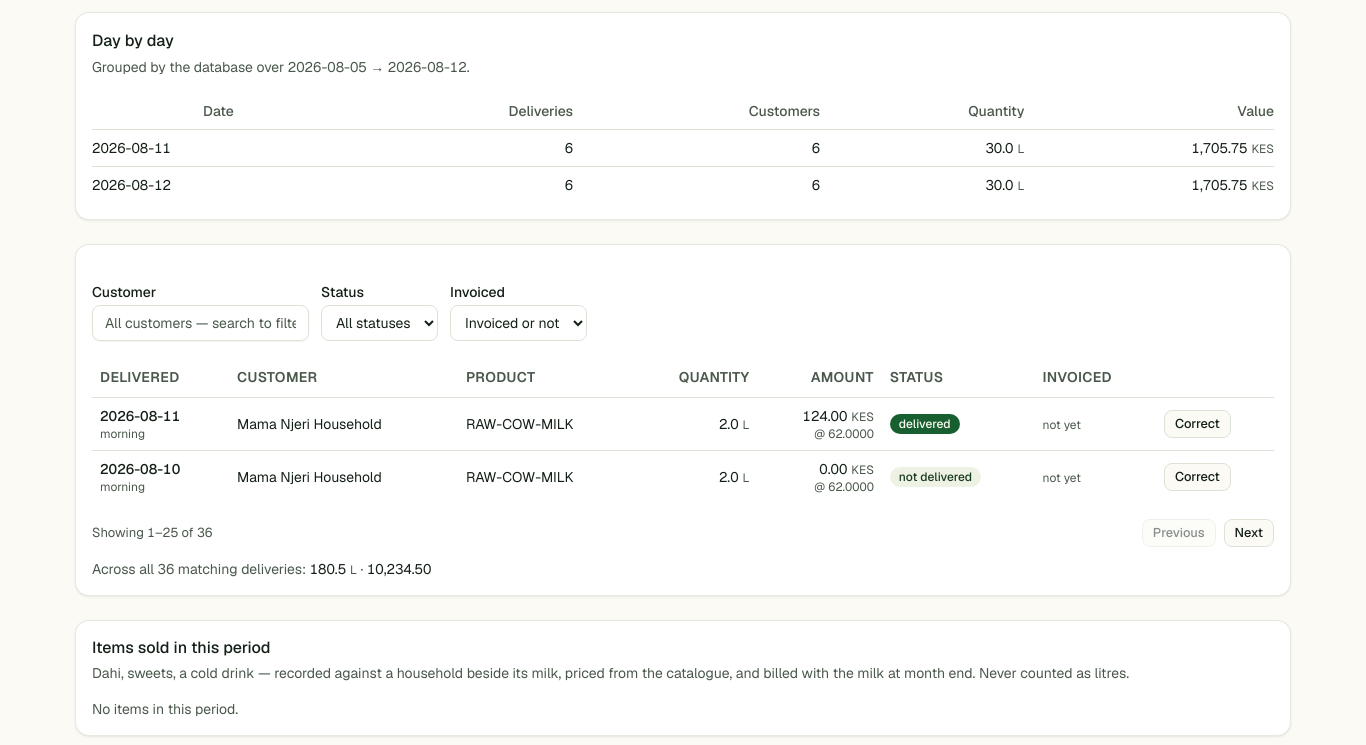
Test: deliveries and the daily report › surfaces the platform's refusal rather than inventing its own
(page scrolled)
Click the button "Correct" in the row of "124.00".
click(1197, 424)  # box x1=1164 y1=410 x2=1231 y2=438
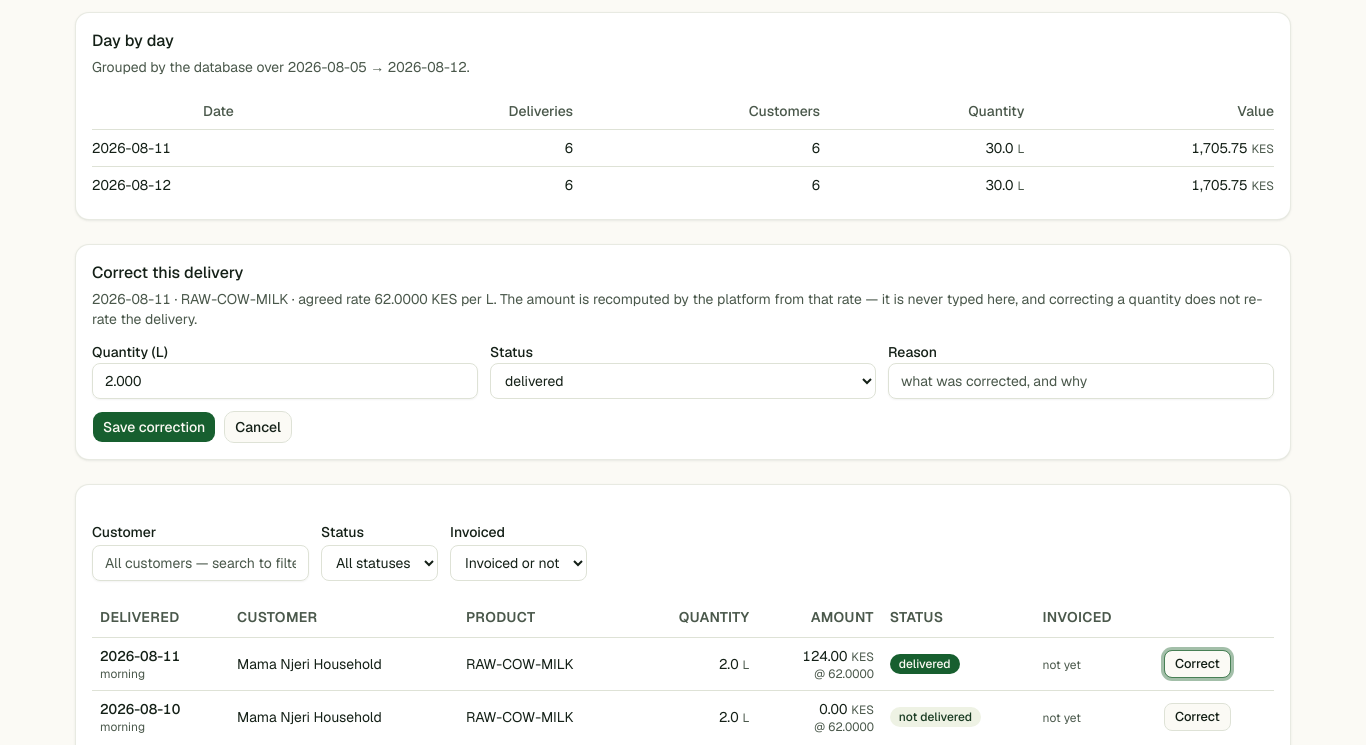
Click the button "Save correction".
click(154, 427)  # box x1=92 y1=411 x2=216 y2=443
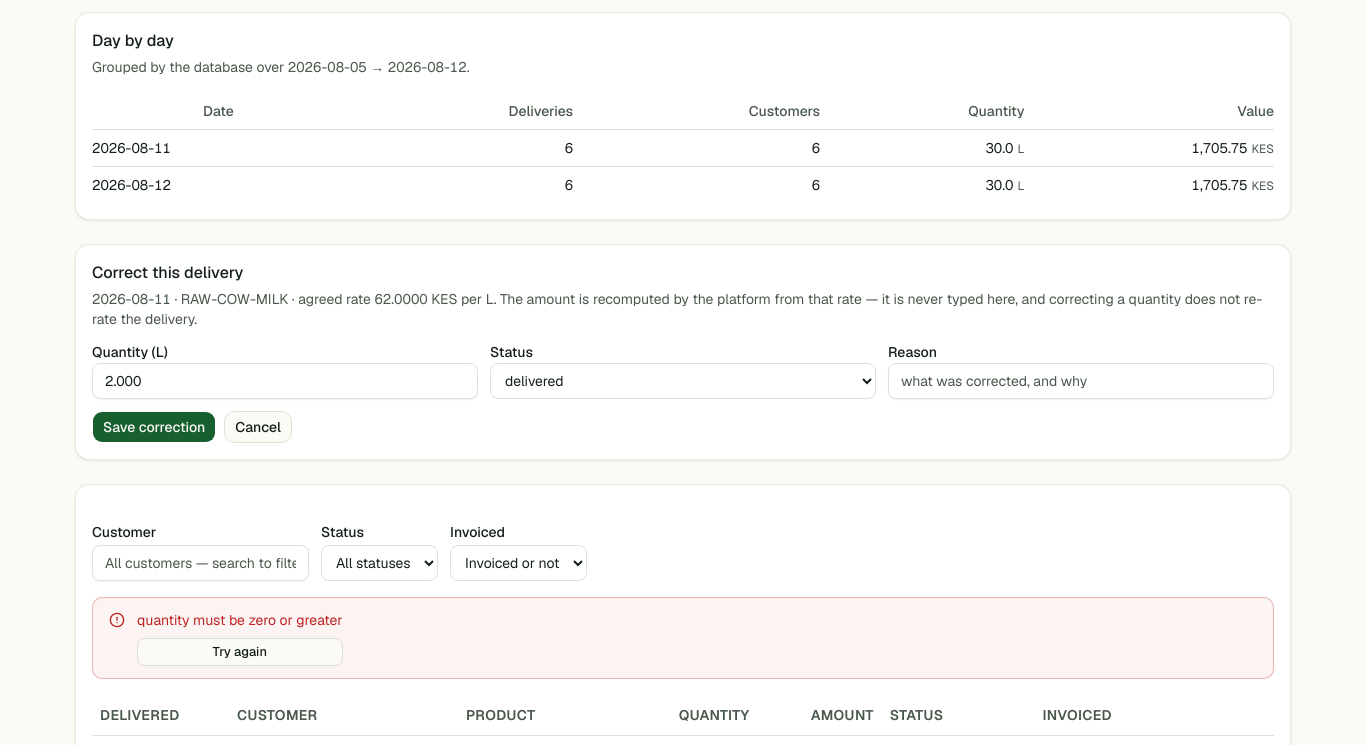
expect the text "quantity must be zero or greater" is shown: met, box x1=137 y1=610 x2=342 y2=630
